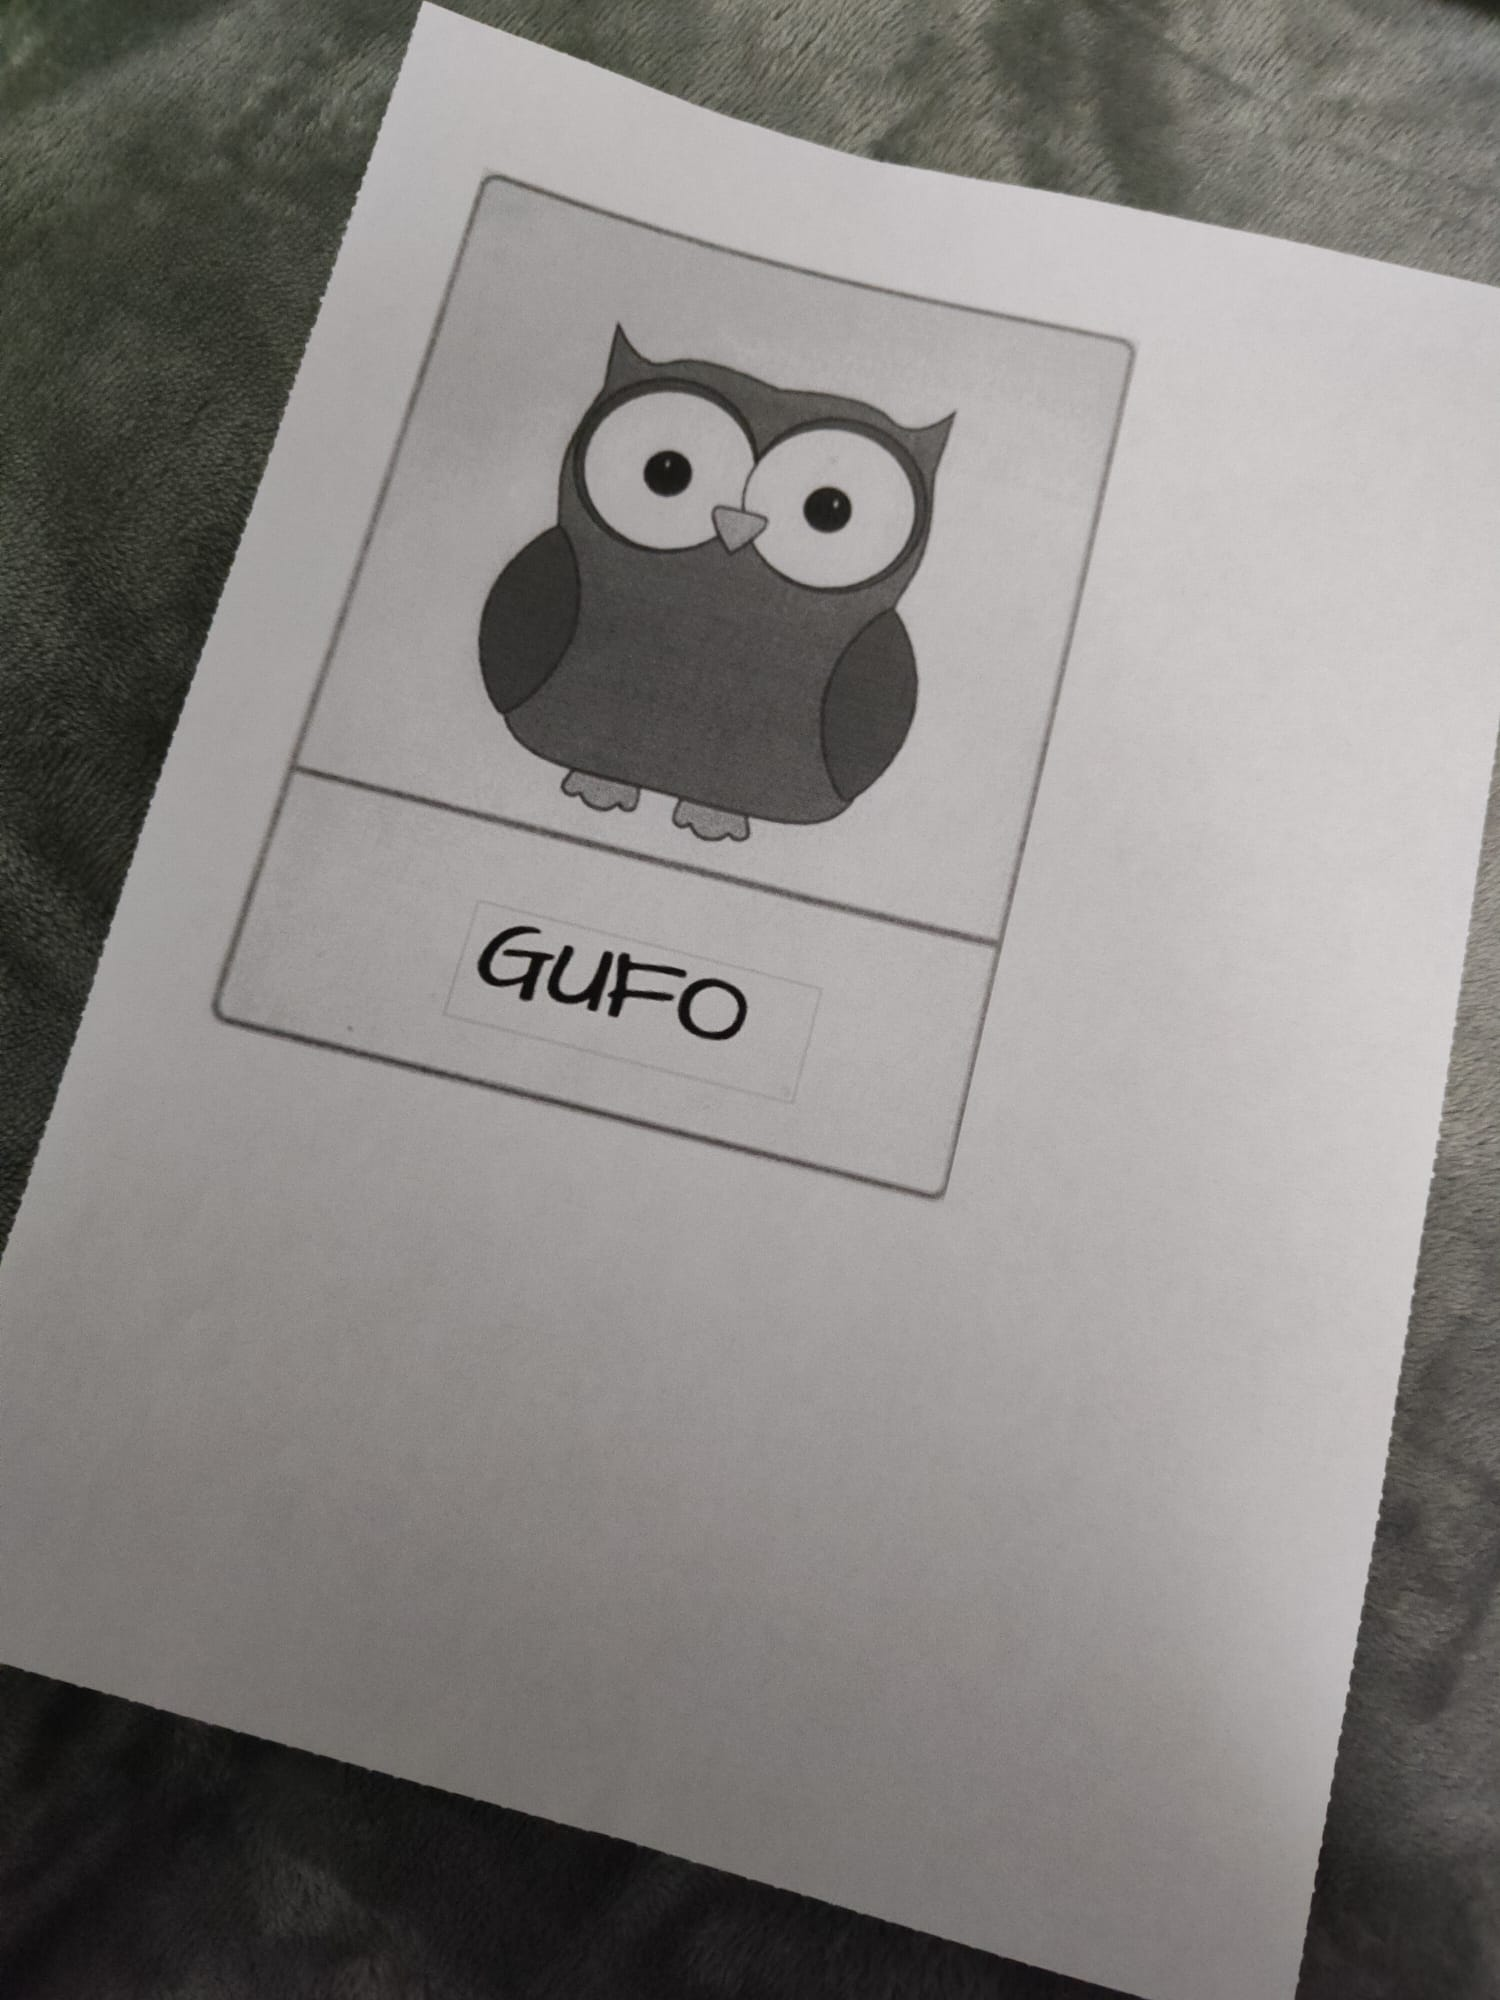gufo: (369, 168, 1006, 1164)
